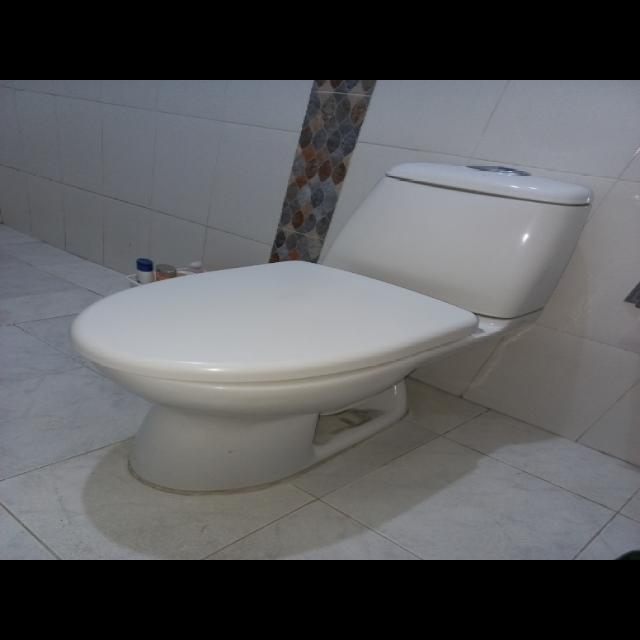toilet: (67, 152, 603, 502)
